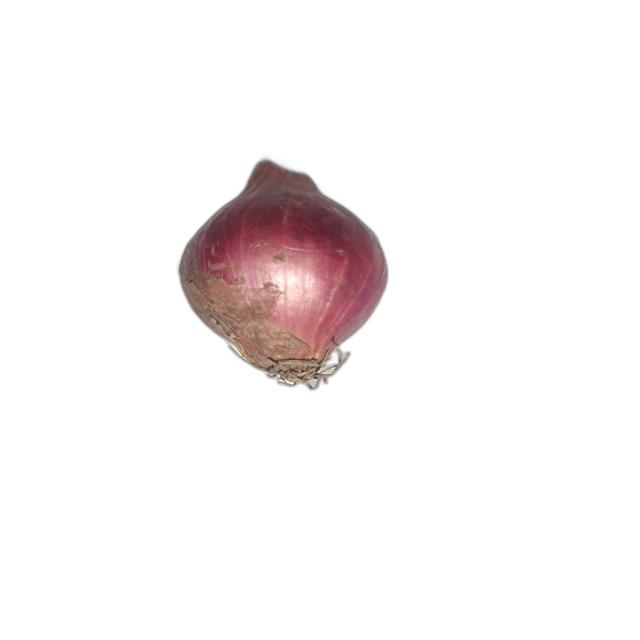onion: (177, 156, 394, 392)
